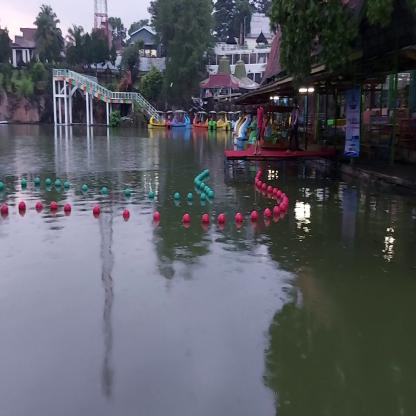green_buoy: (125, 188, 132, 200), (174, 192, 181, 204), (148, 190, 156, 200), (186, 192, 194, 202), (46, 177, 52, 190), (102, 184, 107, 196), (207, 192, 214, 200), (0, 181, 5, 192), (55, 180, 61, 189), (22, 178, 27, 188), (35, 178, 41, 186), (200, 193, 206, 201), (204, 187, 209, 196), (82, 184, 88, 191), (64, 180, 69, 188), (200, 182, 203, 193)
red_buoy: (202, 212, 210, 228), (1, 204, 9, 219), (92, 204, 100, 218), (264, 208, 270, 225), (152, 212, 161, 223), (36, 202, 44, 214), (274, 205, 280, 221), (218, 214, 226, 226), (278, 204, 284, 219), (272, 187, 280, 198), (50, 201, 58, 212), (282, 196, 288, 209), (236, 214, 243, 225), (250, 212, 258, 221), (183, 214, 190, 224), (19, 202, 25, 213), (64, 203, 71, 212), (262, 183, 267, 194), (124, 209, 129, 220), (267, 186, 272, 196)
